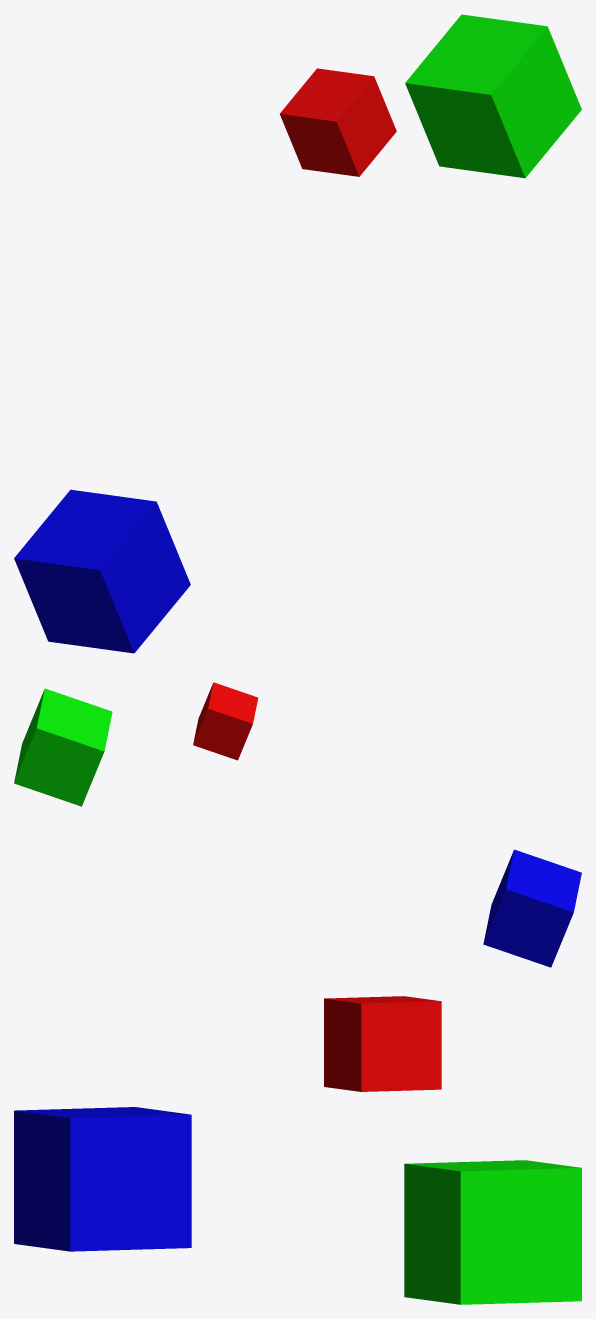
File: hierarchicalTransformations.fbx
3 views of the same model, one above another, from view 1: azimuth 30°, elevation 25°; view 2: azimuth 150°, elevation 25°; view 3: azimuth 270°, elevation 25° (orthographic). The views are drawn at different scales.
Visible parts, largest first — view 1: child1, child2, parent; view 2: child1, child2, parent; view 3: child1, child2, parent.
Boxes of the visible parts, bbox=[...] form: child1: bbox=[405, 14, 581, 178]; child2: bbox=[14, 489, 190, 653]; parent: bbox=[280, 68, 396, 176]; child1: bbox=[14, 688, 112, 806]; child2: bbox=[483, 849, 581, 967]; parent: bbox=[193, 682, 258, 760]; child1: bbox=[404, 1160, 581, 1304]; child2: bbox=[14, 1107, 191, 1251]; parent: bbox=[324, 996, 441, 1091].
Size of the model in its own units: 11.24 by 6.07 by 6.41.
